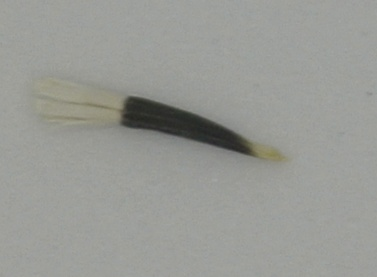เมล็ดดีติดกัน: (38, 74, 289, 163)
